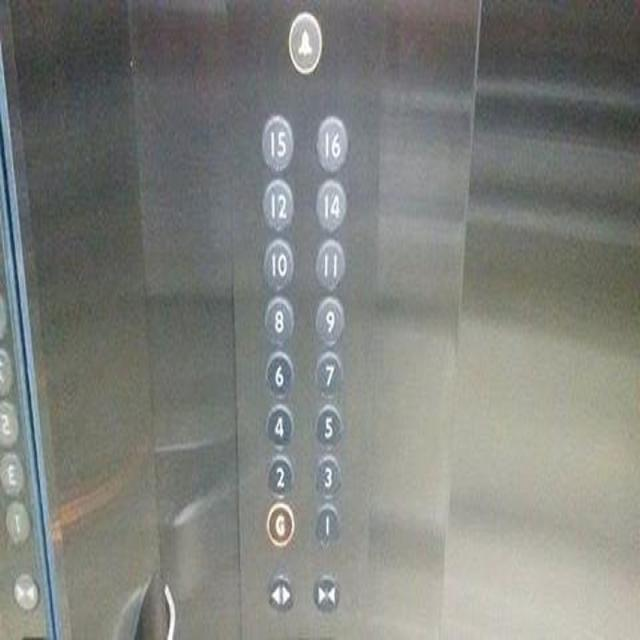1: (313, 504, 339, 551), (4, 502, 31, 546)
10: (261, 237, 295, 291)
11: (313, 237, 344, 292)
12: (260, 176, 294, 233)
14: (314, 176, 346, 231)
15: (260, 113, 292, 172)
16: (315, 114, 348, 174)
2: (265, 453, 295, 498)
3: (312, 453, 340, 500)
4: (264, 402, 293, 449)
5: (313, 403, 342, 448)
6: (264, 349, 293, 400)
7: (313, 350, 341, 398)
8: (262, 293, 294, 347)
9: (314, 293, 344, 347)
G: (264, 497, 296, 547)
alarm: (287, 9, 322, 75)
close: (12, 572, 41, 613), (312, 569, 340, 611)
open: (266, 571, 294, 612)
unknown: (0, 451, 26, 497), (0, 396, 20, 448)
